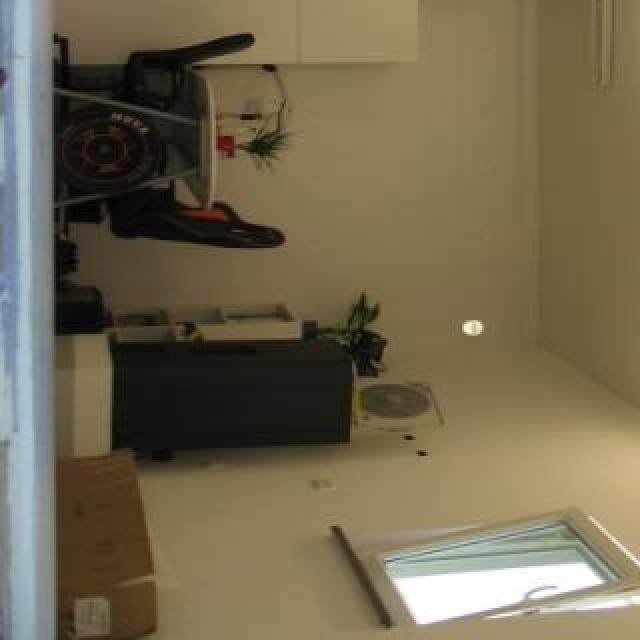fluorescent tube: (632, 310, 640, 418)
